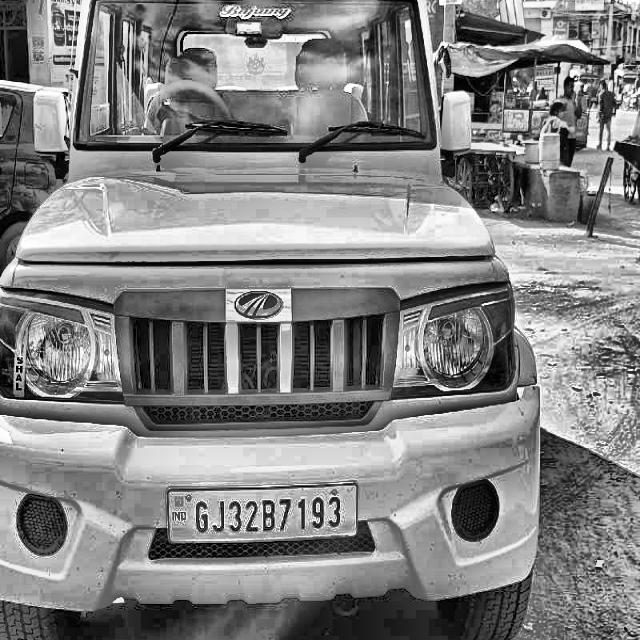light_vehicle: (0, 0, 542, 627)
